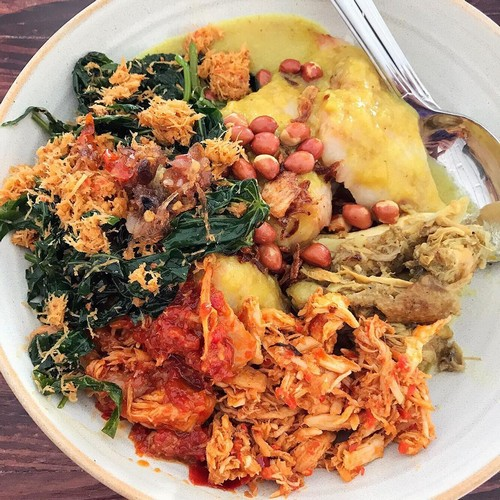tipat blayag: (22, 51, 484, 476)
